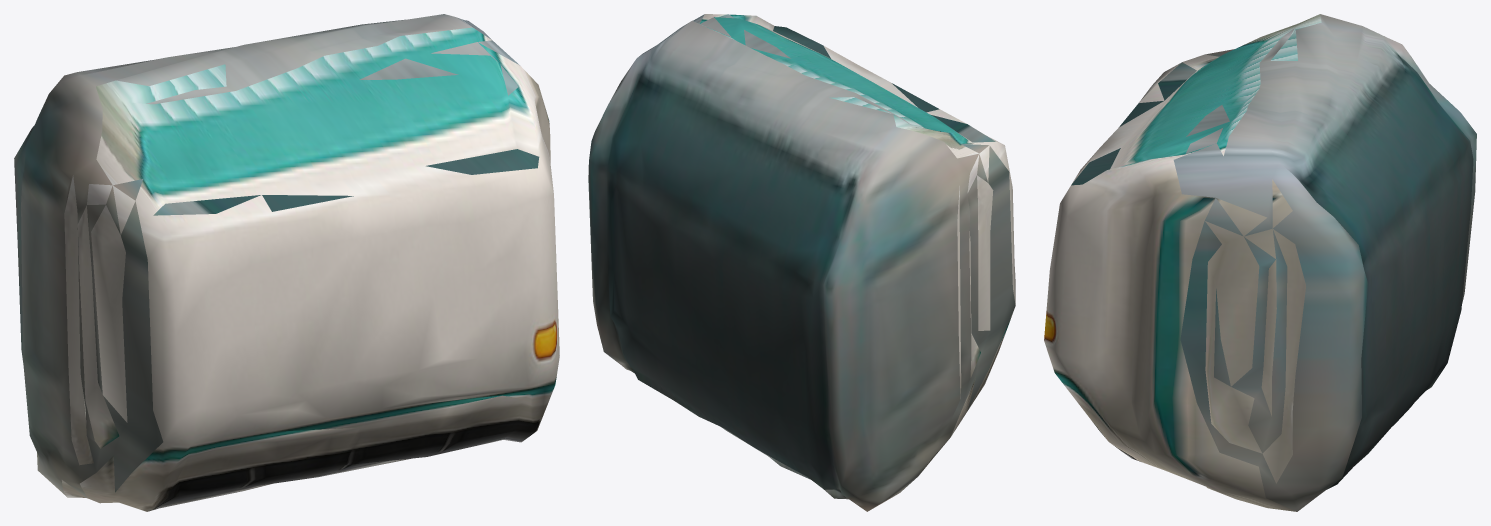
File: cooler.glb
The picture shows the model from 3 angles, left to right: view 1: azimuth 30°, elevation 25°; view 2: azimuth 150°, elevation 25°; view 3: azimuth 270°, elevation 25°; orthographic projection. The views are drawn at different scales.
Visible parts, largest first — view 1: cooler; view 2: cooler; view 3: cooler.
Boxes of the visible parts, x1,y1,x2,y2 form: cooler: [14, 14, 559, 511]; cooler: [588, 14, 1015, 511]; cooler: [1044, 14, 1476, 511].
Bounding box in the file's own units: 1 × 1 × 1.
Materials: 2 (2 with a texture image).
